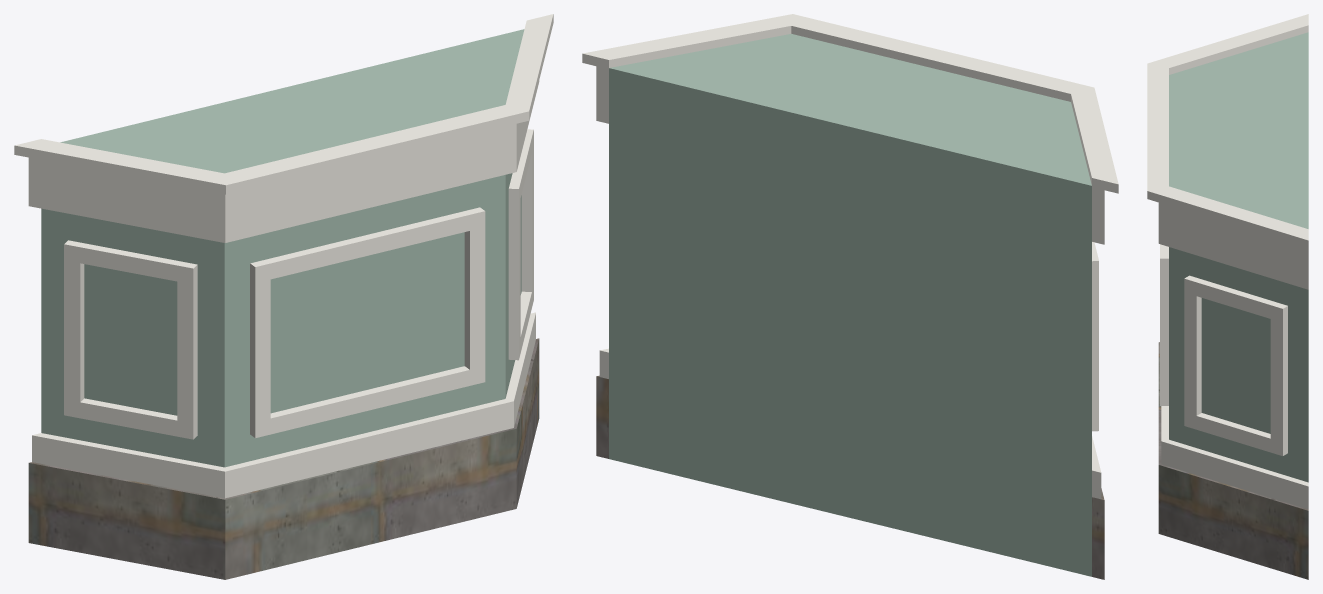
The model's file is bay_base_e.glb.
3 views of the same model, side by side, from view 1: azimuth 30°, elevation 25°; view 2: azimuth 150°, elevation 25°; view 3: azimuth 270°, elevation 25° (orthographic). The views are drawn at different scales.
Parts seen in each view (by area): view 1: bay_base_e_acc_e, bay_base_e_trim, bay_base_e_plinth; view 2: bay_base_e_acc_e, bay_base_e_trim, bay_base_e_plinth; view 3: bay_base_e_acc_e, bay_base_e_trim, bay_base_e_plinth.
Boxes of the visible parts, <box> form: bay_base_e_acc_e: <box>41,29,524,467</box>; bay_base_e_trim: <box>14,14,553,498</box>; bay_base_e_plinth: <box>28,338,539,579</box>; bay_base_e_acc_e: <box>609,34,1091,576</box>; bay_base_e_trim: <box>582,14,1118,499</box>; bay_base_e_plinth: <box>596,375,1104,579</box>; bay_base_e_acc_e: <box>1169,32,1308,482</box>; bay_base_e_trim: <box>1147,14,1308,509</box>; bay_base_e_plinth: <box>1158,342,1308,579</box>.
Bounding box in the file's own units: 2.11 × 1.5 × 0.635.
Materials: 3 (1 with a texture image).
